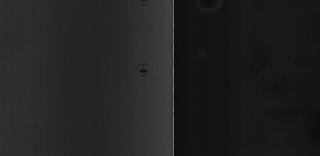oil spot: (135, 60, 155, 80)
